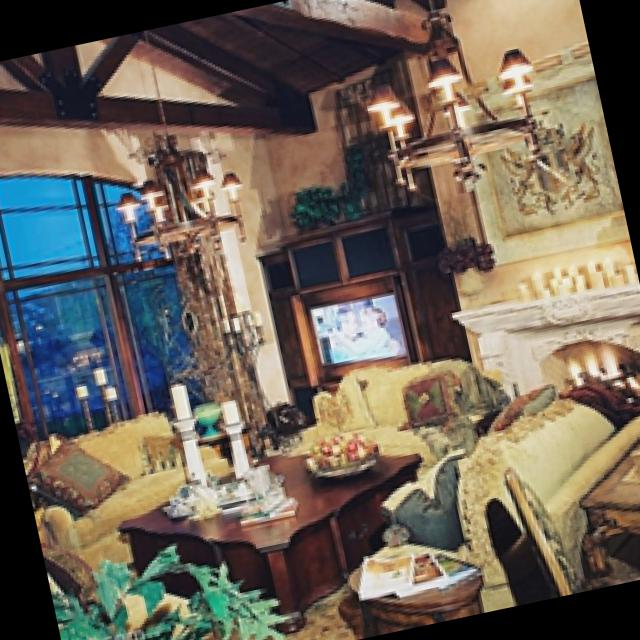2001: (0, 167, 213, 435)
blanket: (411, 364, 505, 459), (555, 370, 640, 427)
book case: (232, 495, 296, 525)
candle holder: (168, 382, 204, 481), (220, 399, 248, 478)
candles: (215, 306, 271, 417), (513, 252, 634, 296), (516, 255, 635, 298), (67, 362, 120, 427)
ceiling lamps: (371, 0, 539, 190), (114, 30, 242, 255)
chair -occluded-: (495, 466, 588, 594)
decorations: (161, 477, 227, 520)
end table: (336, 542, 483, 633)
fireplace mantle: (447, 288, 640, 410)
fruit plate: (304, 427, 373, 471)
glass ceiling: (241, 465, 269, 510)
magazines: (351, 539, 479, 597)
painting crop: (448, 44, 627, 266)
pillow occluded: (30, 436, 126, 511), (481, 377, 555, 431), (400, 373, 445, 423), (137, 432, 177, 471)
plant -x: (51, 545, 280, 640), (284, 182, 376, 229), (439, 230, 489, 294)
small table part: (116, 446, 415, 615)
sofa bed: (367, 384, 640, 603), (21, 408, 229, 569), (289, 363, 502, 457), (305, 371, 378, 433)
table -X: (584, 442, 640, 570)
television cabinet: (304, 289, 404, 364)
television case: (252, 197, 463, 400)
tv camera: (294, 271, 410, 382)
vase -X: (186, 400, 218, 433)
